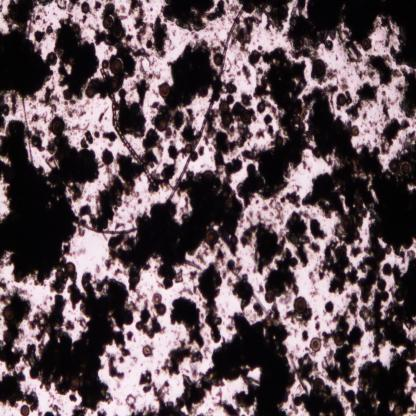Background material: (303, 84, 416, 254), (0, 117, 97, 285), (130, 316, 294, 415), (107, 174, 244, 290), (25, 266, 134, 411), (0, 119, 79, 283), (242, 45, 310, 204), (286, 0, 416, 68), (360, 252, 416, 352), (351, 348, 416, 414), (55, 14, 100, 100), (44, 134, 100, 200), (0, 31, 56, 96), (321, 306, 364, 386), (171, 40, 216, 108), (0, 282, 32, 372), (241, 219, 288, 270), (316, 238, 358, 292), (225, 261, 265, 317), (97, 29, 137, 81), (198, 264, 224, 343), (168, 296, 205, 349), (163, 1, 226, 32), (117, 78, 150, 135), (0, 369, 40, 413), (264, 249, 298, 298), (237, 0, 289, 32), (296, 382, 346, 414), (162, 338, 205, 375), (284, 212, 311, 269), (214, 130, 243, 178), (346, 81, 378, 120), (367, 53, 403, 86), (168, 106, 198, 144), (136, 300, 166, 338), (4, 0, 39, 31), (127, 0, 148, 48), (397, 66, 416, 118), (115, 155, 142, 186), (378, 117, 400, 155), (160, 141, 180, 181), (295, 354, 319, 386), (236, 17, 261, 47), (342, 38, 364, 66), (42, 84, 61, 115), (223, 104, 245, 128), (106, 353, 125, 380), (207, 106, 222, 139), (62, 101, 88, 119), (347, 289, 361, 320), (295, 306, 314, 327), (279, 192, 307, 206), (308, 269, 321, 299), (270, 197, 285, 223), (310, 219, 328, 240), (380, 90, 392, 121), (31, 128, 46, 152), (139, 370, 154, 392), (79, 128, 95, 148), (94, 0, 116, 14), (30, 110, 48, 127), (225, 81, 238, 104), (132, 48, 153, 62), (36, 404, 60, 416), (10, 92, 19, 116), (309, 237, 322, 253), (141, 344, 154, 358), (66, 0, 80, 13), (134, 288, 146, 303), (70, 406, 88, 416), (127, 395, 138, 411), (34, 30, 47, 43), (284, 309, 294, 325), (300, 327, 310, 343), (65, 122, 80, 132), (0, 275, 8, 293), (326, 38, 336, 52), (55, 0, 67, 11), (241, 109, 250, 123), (313, 313, 320, 331), (68, 392, 78, 404), (46, 22, 54, 36), (0, 115, 6, 133), (79, 13, 88, 24), (38, 0, 54, 6), (126, 330, 134, 342), (191, 269, 198, 282), (32, 14, 40, 25), (198, 146, 205, 157), (118, 356, 126, 365), (97, 410, 108, 416), (0, 4, 3, 14)
Diatom: (102, 70, 158, 190), (147, 17, 171, 59), (109, 57, 123, 76), (312, 59, 326, 78), (294, 296, 308, 314), (52, 118, 64, 136), (201, 171, 215, 186), (205, 229, 218, 245), (400, 160, 412, 177), (4, 303, 15, 321), (102, 14, 114, 30), (155, 114, 167, 130), (69, 375, 80, 392), (382, 260, 392, 277), (65, 263, 77, 277), (102, 150, 113, 165), (361, 36, 372, 51), (310, 337, 321, 352), (335, 330, 345, 346), (160, 82, 170, 97), (70, 289, 80, 304), (392, 404, 404, 416), (213, 52, 223, 66), (389, 159, 399, 173), (314, 378, 324, 392), (0, 102, 10, 116), (264, 314, 274, 328), (274, 134, 284, 148), (265, 290, 275, 304), (18, 20, 29, 32), (152, 293, 162, 305), (113, 26, 123, 38), (346, 390, 356, 402), (48, 51, 57, 64), (378, 278, 386, 292), (29, 368, 39, 379), (337, 94, 346, 106), (325, 301, 334, 313), (220, 101, 229, 112), (118, 87, 127, 98), (86, 87, 95, 98), (21, 404, 30, 415), (158, 304, 166, 316), (257, 101, 265, 113), (82, 1, 90, 13), (56, 269, 64, 280), (231, 233, 238, 245), (352, 230, 360, 240), (402, 118, 410, 128), (185, 144, 193, 153), (64, 90, 72, 99), (117, 15, 129, 20)
Microfibre: (168, 7, 245, 201), (20, 97, 33, 165), (81, 220, 139, 235)
